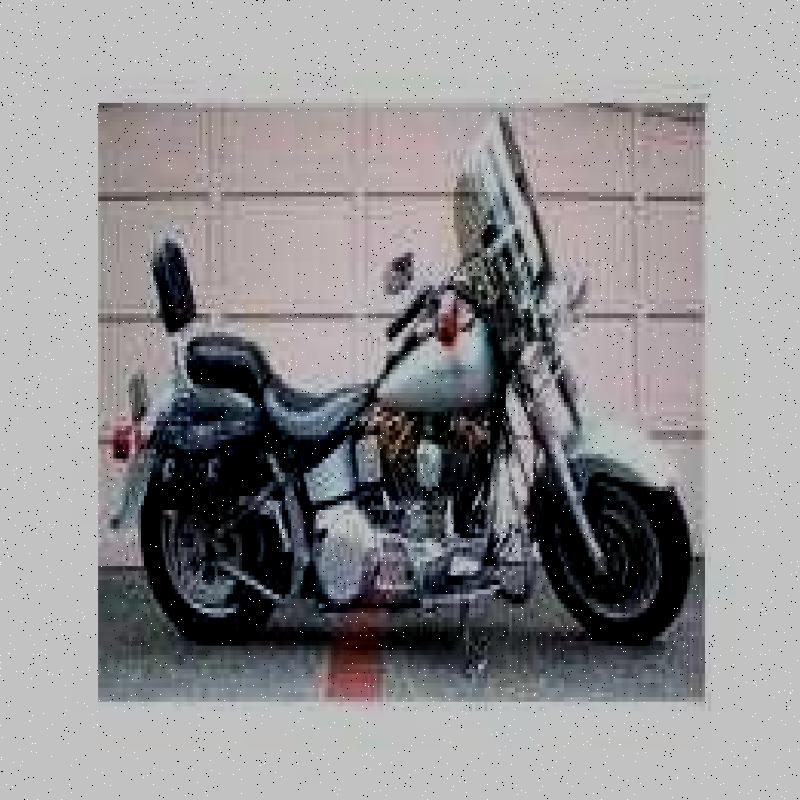bike: (103, 108, 702, 668)
